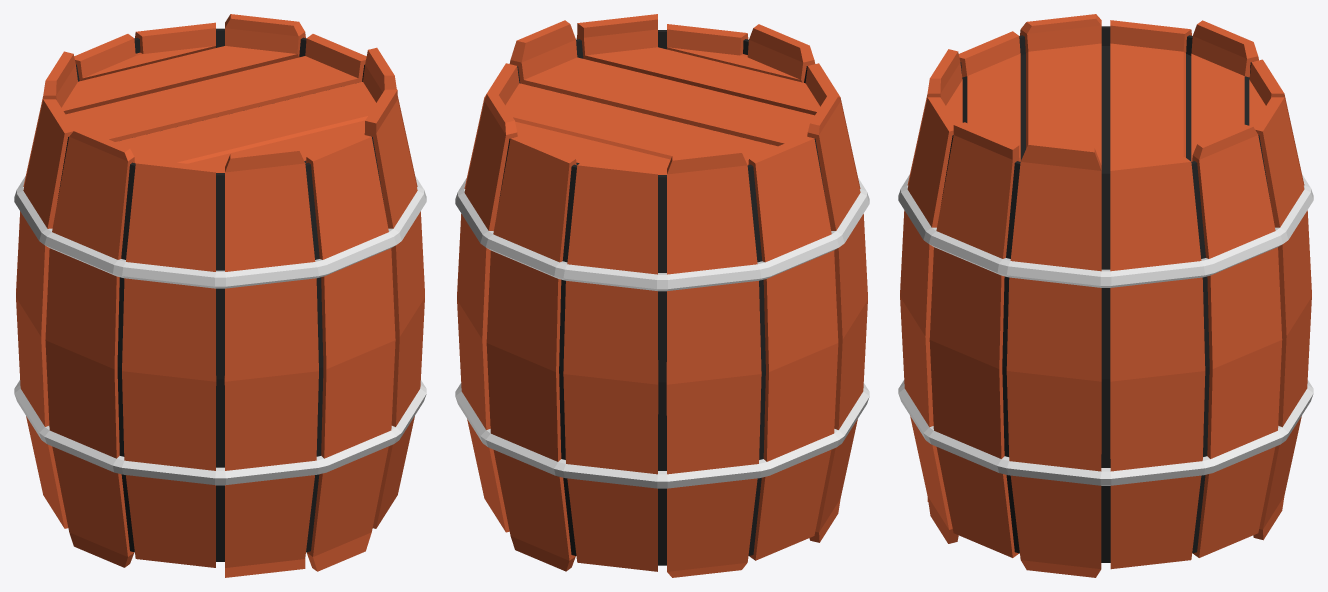
The model's file is BarrelDeco.fbx.
3 views of the same model, side by side, from view 1: azimuth 30°, elevation 25°; view 2: azimuth 150°, elevation 25°; view 3: azimuth 270°, elevation 25° (orthographic).
Visible parts, largest first — view 1: BarrelDeco; view 2: BarrelDeco; view 3: BarrelDeco.
Boxes of the visible parts, x1,y1,x2,y2 form: BarrelDeco: [14, 14, 426, 577]; BarrelDeco: [455, 14, 869, 577]; BarrelDeco: [898, 14, 1313, 577].
Bounding box in the file's own units: 56.71 × 65.23 × 56.72.
